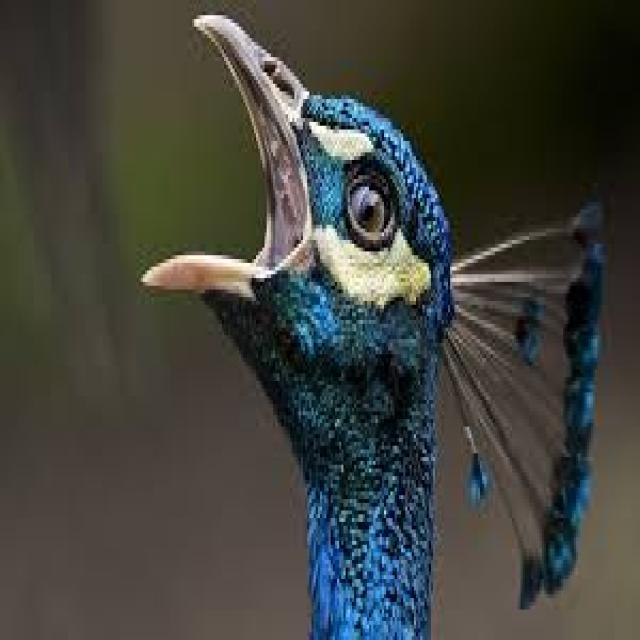peacock: (141, 5, 617, 640)
